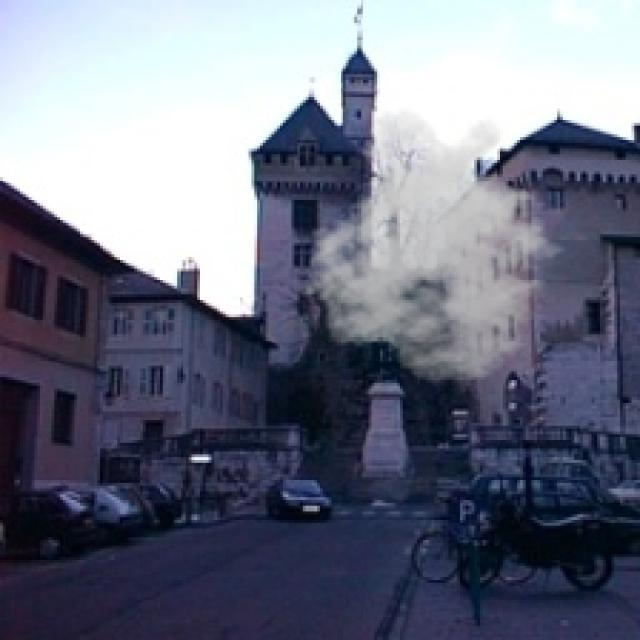smoke: (300, 108, 580, 386)
